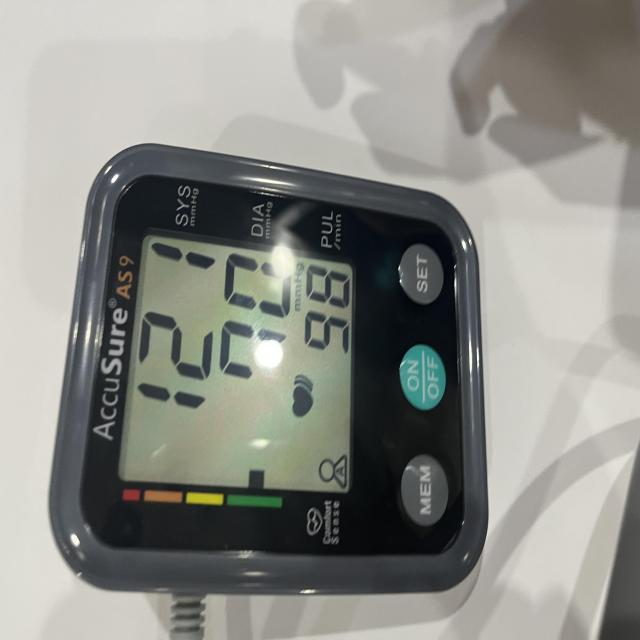bp: (44, 143, 490, 640)
